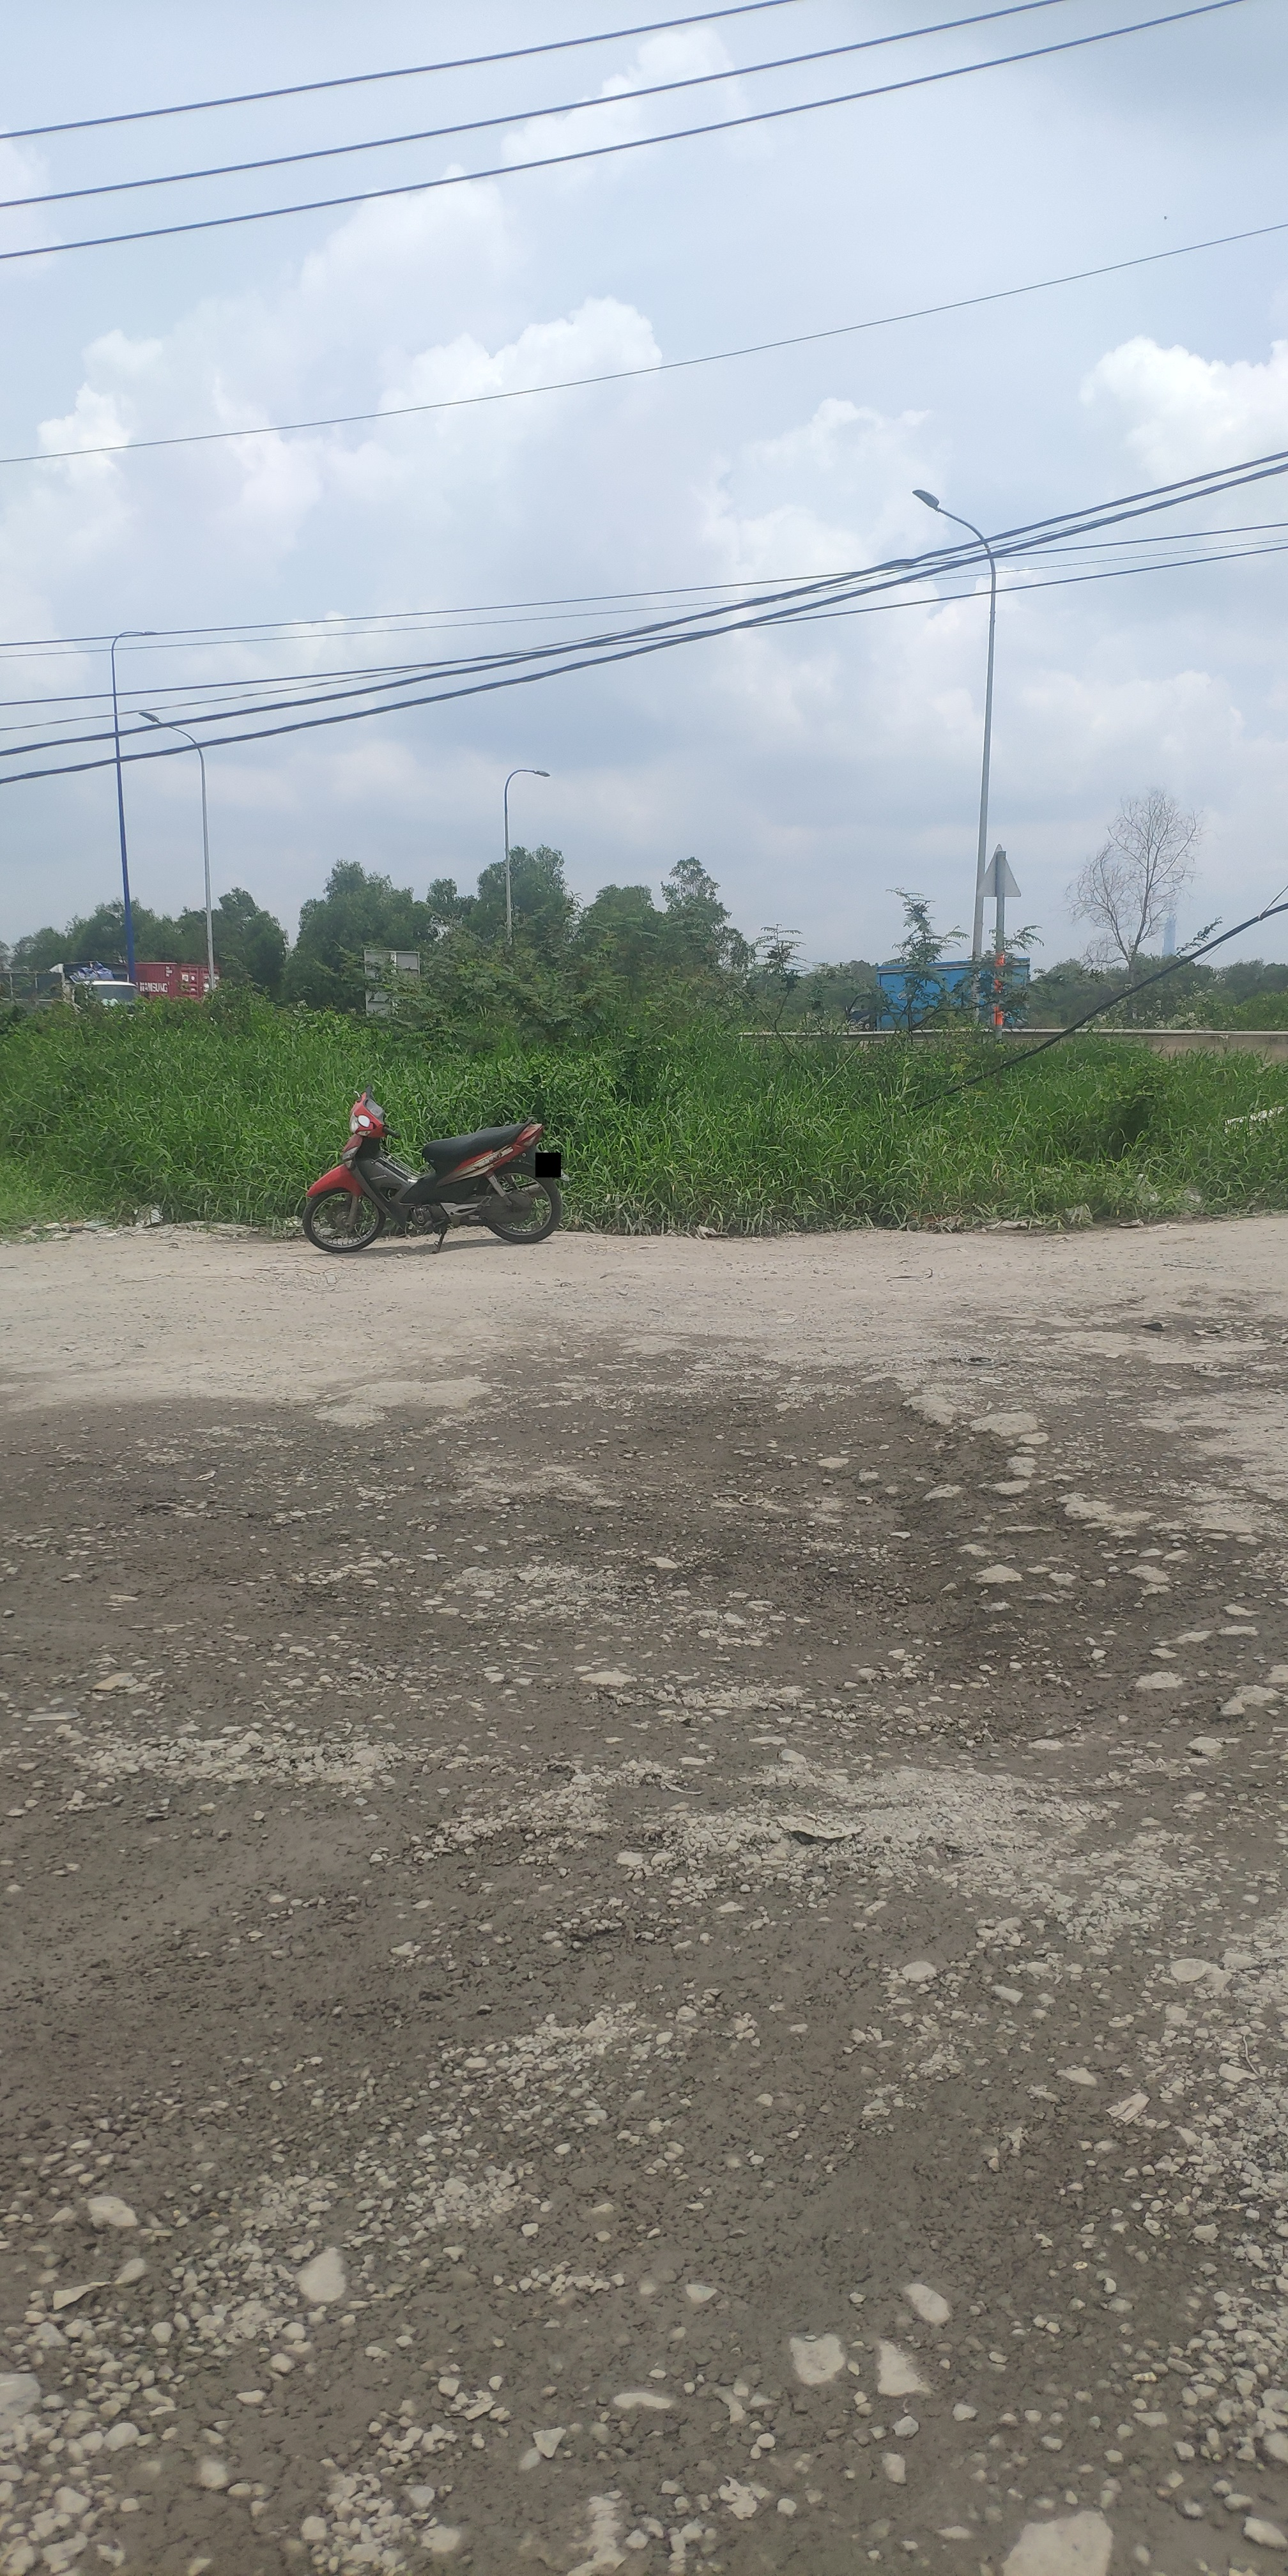hole: (741, 1406, 1097, 1694)
